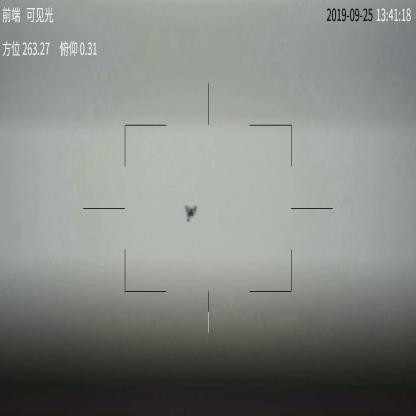uav: (185, 202, 199, 221)
